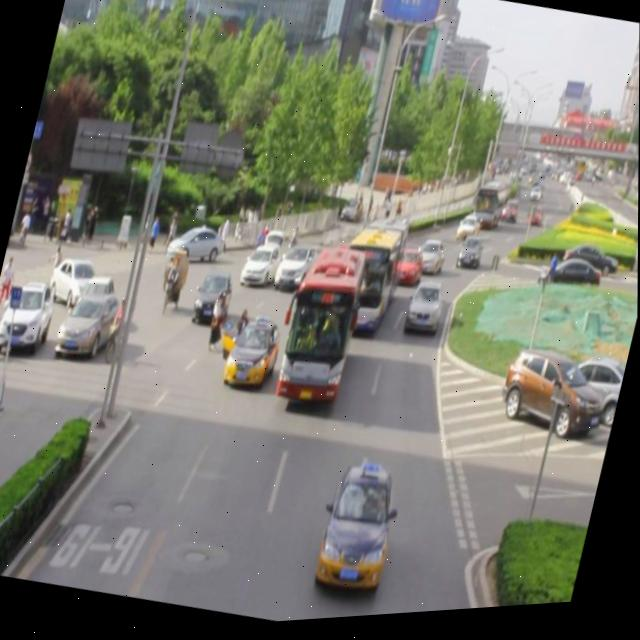car: (312, 461, 404, 602), (220, 315, 284, 398), (326, 236, 382, 291), (272, 239, 321, 299), (403, 279, 447, 344), (191, 267, 236, 330), (239, 240, 285, 295), (392, 248, 425, 294), (453, 237, 486, 280), (413, 242, 446, 282)
van: (274, 243, 369, 413), (330, 216, 409, 341)
